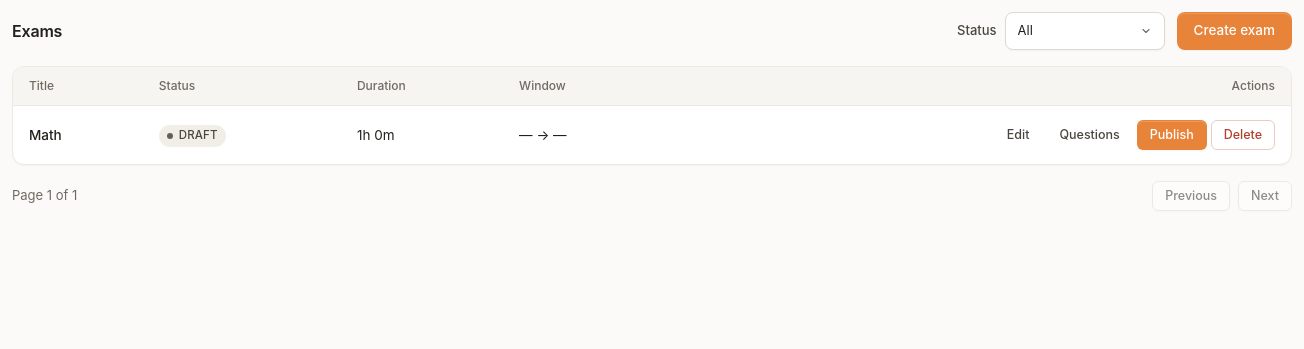
Test: ExamList › shows publish problems
The width and height of the screenshot is (1304, 349).
Click the button "Publish" at (1172, 135), box [1137,120,1207,150]
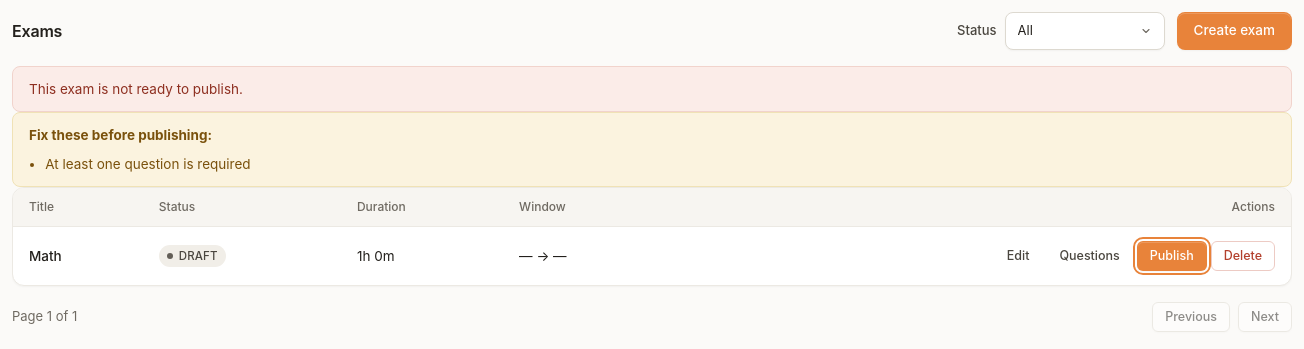
Result: the list item "At least one question is required" is shown at [45,156,251,172]
